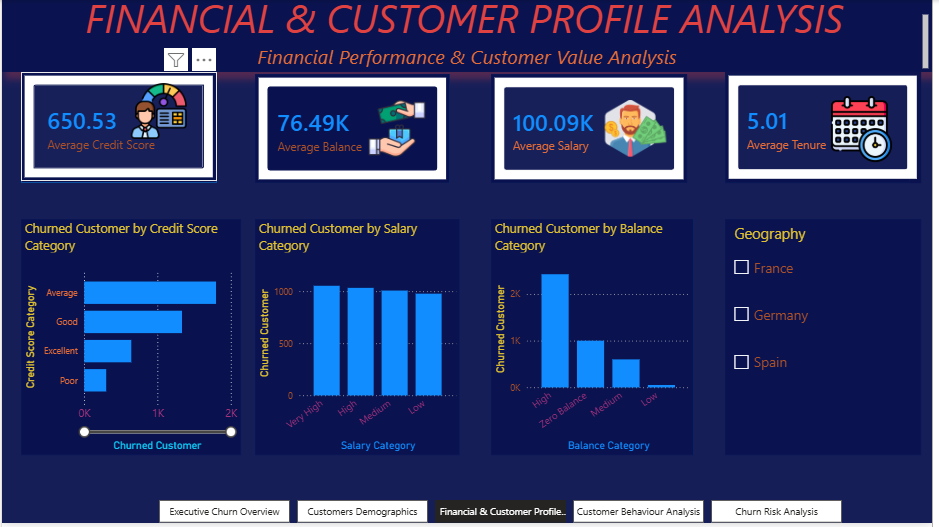

This screenshot's page, from the dashboard's own definition file:
{"tool":"powerbi","page":{"name":"Financial & Customer Profile Analysis","canvas":[1280,720],"ordinal":2},"visuals":[{"type":"textbox","box":[0,0,1279.7,80.1],"z":0},{"type":"shape","box":[26.2,101.8,269.8,150],"z":1000},{"type":"shape","box":[995.1,101.8,254.6,150],"z":2000},{"type":"shape","box":[348.2,101.8,268.4,150],"z":3000},{"type":"shape","box":[673,101.8,269.8,150],"z":4000},{"type":"cardVisual","fields":{"Data":["ALL MEASURE.Average Credit Score"]},"box":[26.2,99.1,269.8,150],"z":5000},{"type":"cardVisual","fields":{"Data":["ALL MEASURE.Average Balance"]},"box":[348.2,101.8,268.4,150],"z":6000},{"type":"cardVisual","fields":{"Data":["ALL MEASURE.Average Salary"]},"box":[673,101.8,270,150],"z":7000},{"type":"cardVisual","fields":{"Data":["ALL MEASURE.Average Tenure"]},"box":[995.1,99.1,269.8,152.8],"z":8000},{"type":"shape","box":[26.2,301.4,302.8,324.8],"z":9000},{"type":"shape","box":[673,301.4,279.4,324.8],"z":10000},{"type":"shape","box":[348.2,301.4,282.2,324.8],"z":11000},{"type":"shape","box":[995.1,301.4,269.8,324.8],"z":12000},{"type":"barChart","fields":{"Category":["churn_modelling_db.Credit Score Category"],"Y":["ALL MEASURE.Churned Customer"]},"box":[26.2,301.4,302.8,324.8],"z":13000},{"type":"clusteredColumnChart","fields":{"Category":["churn_modelling_db.Balance Category"],"Y":["ALL MEASURE.Churned Customer"]},"box":[673,301.4,279.4,324.8],"z":14000},{"type":"lineStackedColumnComboChart","fields":{"Y":["ALL MEASURE.Churned Customer"],"Category":["churn_modelling_db.Salary Category"]},"box":[348.2,301.4,282.2,324.8],"z":15000},{"type":"slicer","fields":{"Values":["churn_modelling_db.Geography"]},"box":[995.1,301.4,269.8,324.8],"z":16000},{"type":"pageNavigator","box":[216.1,688.2,942.8,31.7],"z":17000},{"type":"image","box":[169.3,114.2,92.2,77.1],"z":18000},{"type":"image","box":[488.6,137.6,110.1,78.5],"z":19000},{"type":"image","box":[824.4,137.6,95,78.5],"z":20000},{"type":"image","box":[1130,132.1,106,90.8],"z":21000}]}

Visuals, with their boxes in screenshot pixels (x1, y1, x2, y2), scaled from the page's 1280x720 canvas onto the 939x527 screenshot:
textbox: 0,0,938,59
shape: 19,75,217,184
shape: 730,75,917,184
shape: 255,75,452,184
shape: 494,75,692,184
cardVisual - ALL MEASURE.Average Credit Score: 19,73,217,182
cardVisual - ALL MEASURE.Average Balance: 255,75,452,184
cardVisual - ALL MEASURE.Average Salary: 494,75,692,184
cardVisual - ALL MEASURE.Average Tenure: 730,73,928,184
shape: 19,221,241,458
shape: 494,221,699,458
shape: 255,221,462,458
shape: 730,221,928,458
barChart - churn_modelling_db.Credit Score Category x ALL MEASURE.Churned Customer: 19,221,241,458
clusteredColumnChart - churn_modelling_db.Balance Category x ALL MEASURE.Churned Customer: 494,221,699,458
lineStackedColumnComboChart - ALL MEASURE.Churned Customer x churn_modelling_db.Salary Category: 255,221,462,458
slicer - churn_modelling_db.Geography: 730,221,928,458
pageNavigator: 159,504,850,526
image: 124,84,192,140
image: 358,101,439,158
image: 605,101,674,158
image: 829,97,907,163
